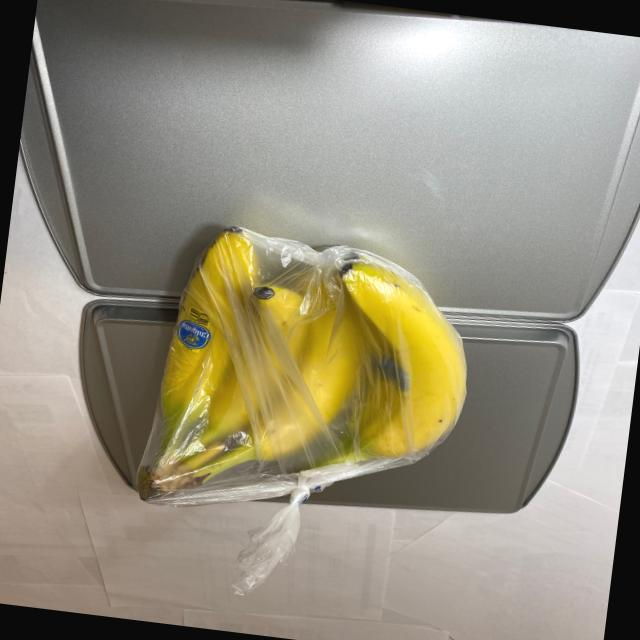banana: (124, 214, 482, 544)
